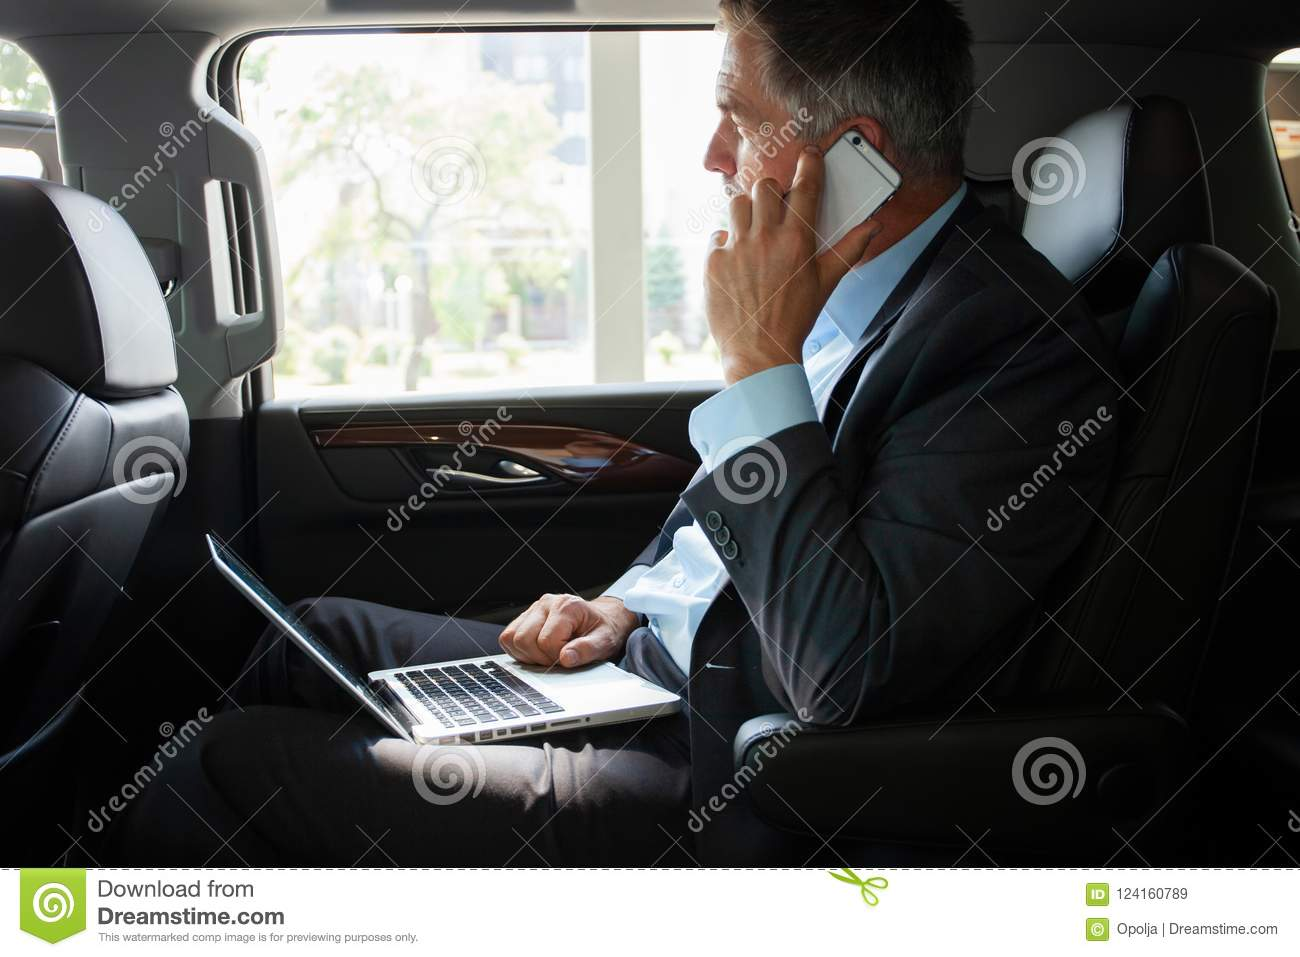phone: (698, 126, 907, 276)
talk: (694, 74, 906, 390)
